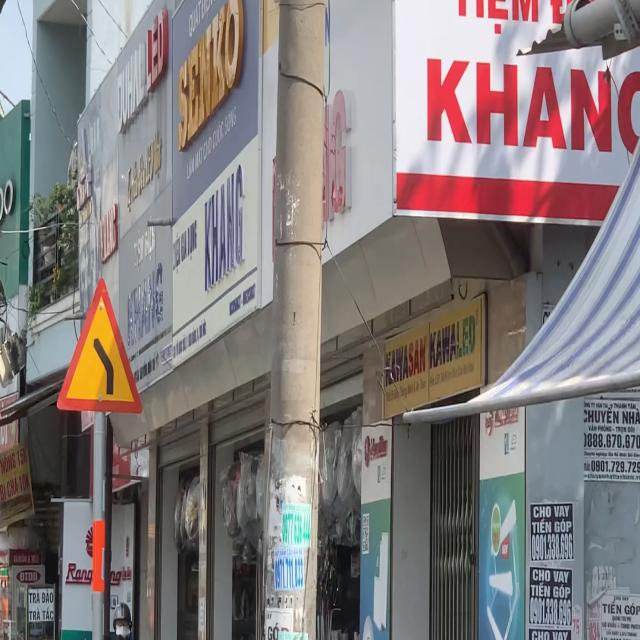Nguy hiem: (56, 275, 144, 415)
